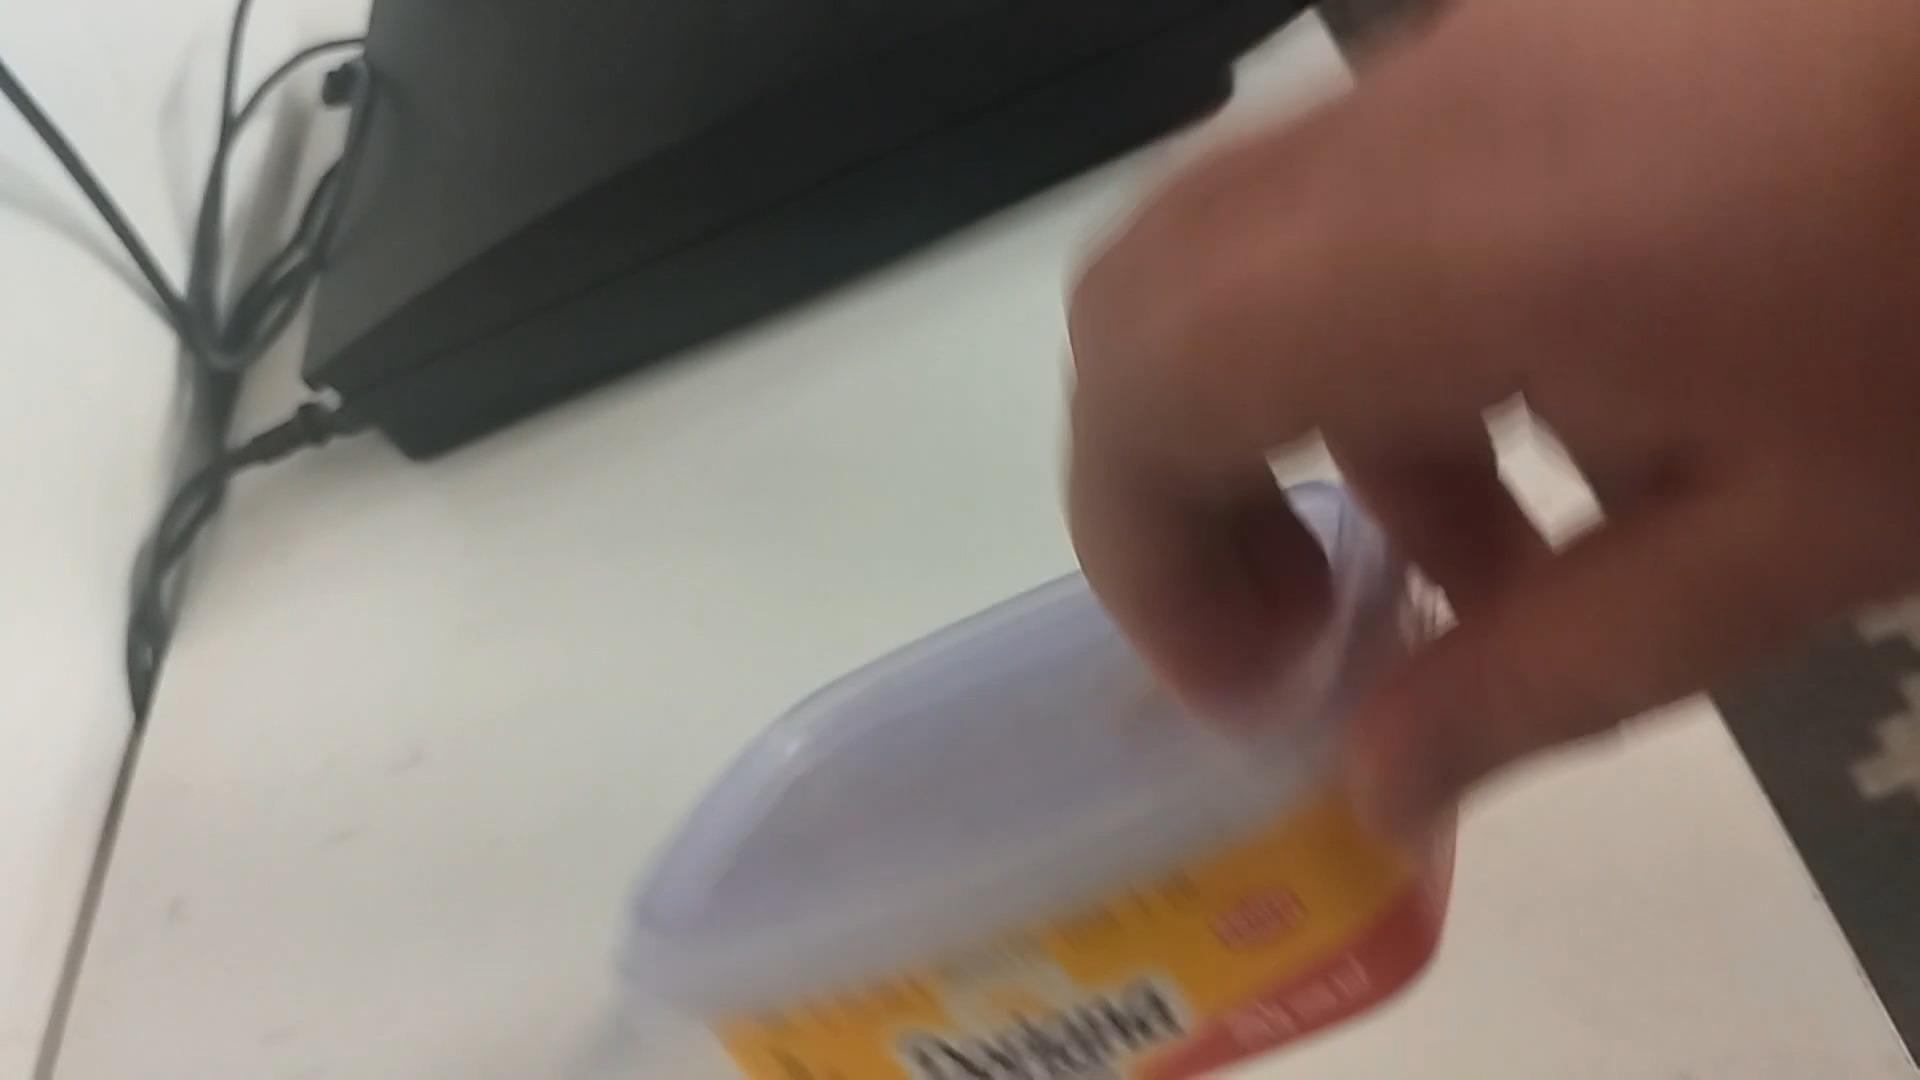butter: (611, 481, 1456, 1080)
